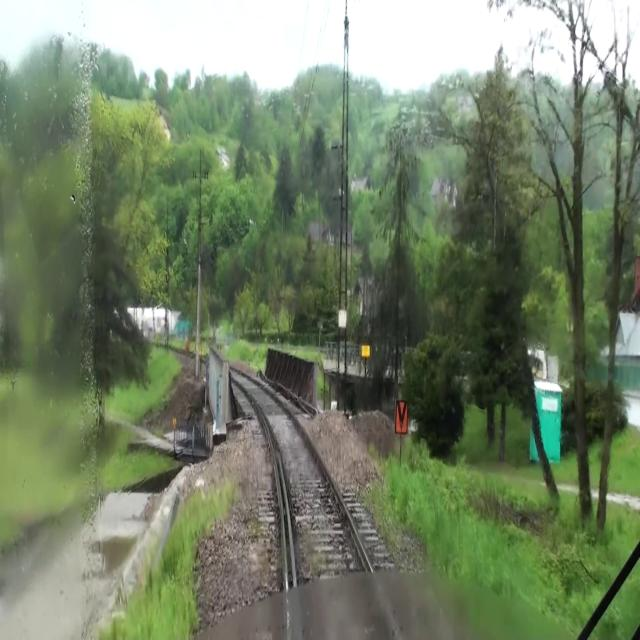rail-track: (230, 370, 396, 639), (290, 596, 293, 639)
